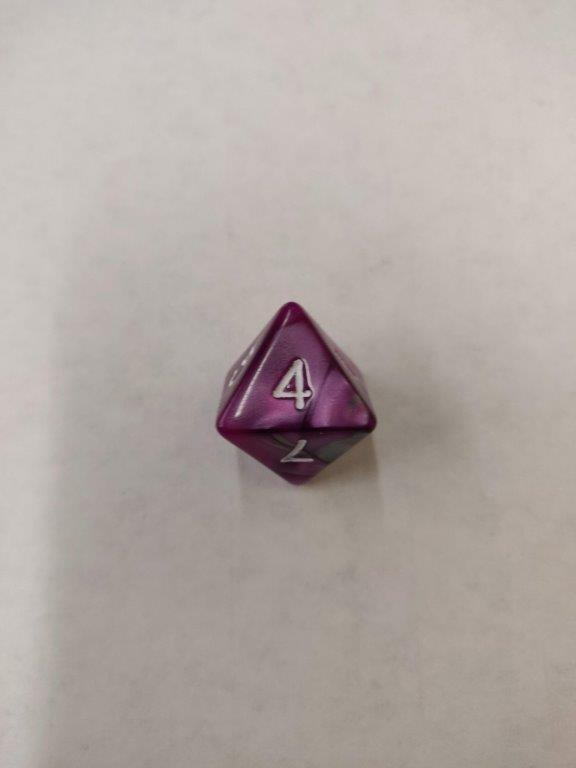d8-4: (212, 298, 380, 490)
